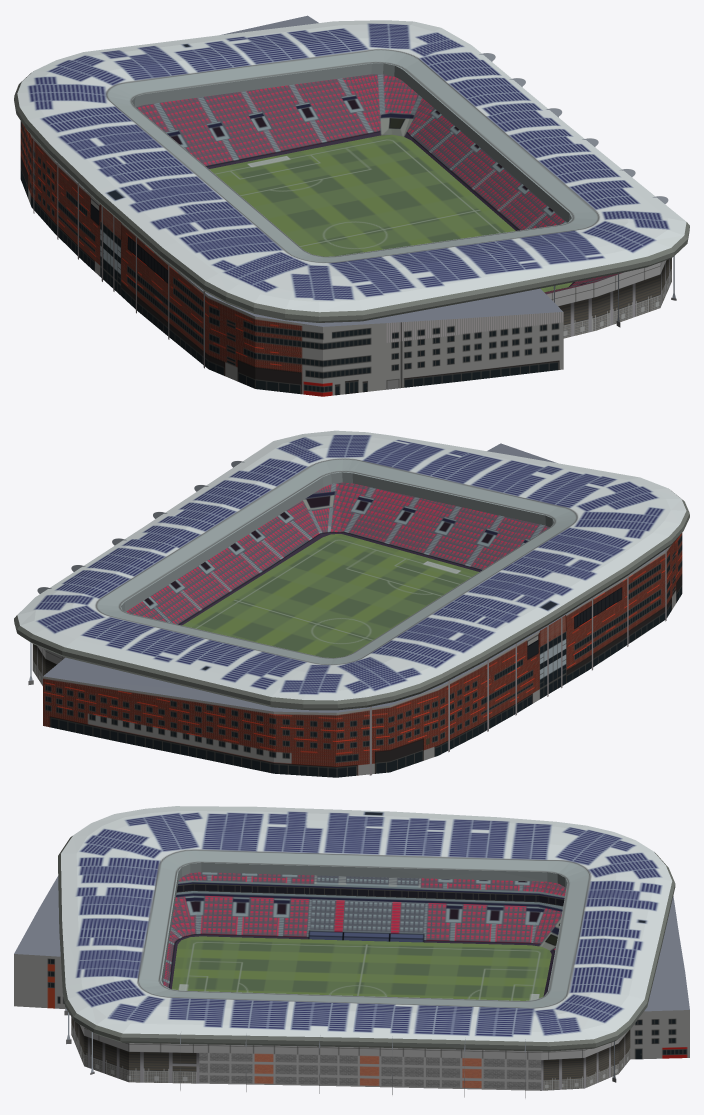
Rendered from stadium.glb.
3 renders of one model, top to bottom at view 1: azimuth 30°, elevation 25°; view 2: azimuth 150°, elevation 25°; view 3: azimuth 270°, elevation 25°, orthographic. The views are drawn at different scales.
Parts seen in each view (by area): view 1: S; view 2: S; view 3: S.
Boxes of the visible parts, box(x1,y1,x2,y2) form: S: box(14, 15, 689, 396); S: box(14, 430, 689, 777); S: box(14, 806, 689, 1098).
Size of the model in its own units: 156 by 28.21 by 208.
1 material, 1 textured.
